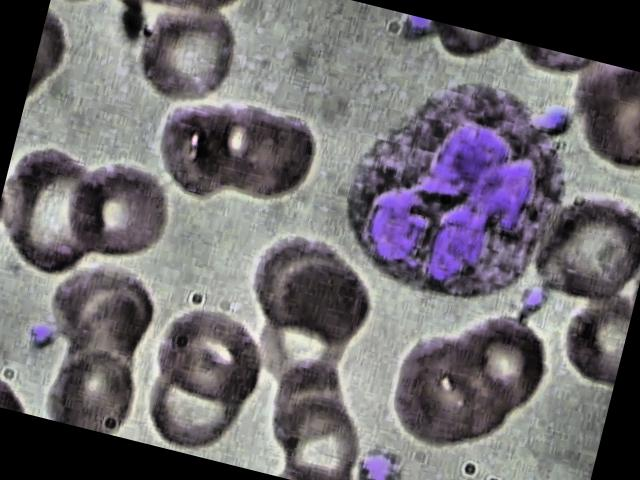Platelets: (530, 98, 582, 144), (511, 280, 558, 326), (351, 443, 404, 480), (23, 318, 64, 357), (394, 14, 437, 47)
RBC: (0, 136, 127, 287), (146, 289, 280, 413), (442, 304, 562, 422), (61, 150, 180, 268), (132, 352, 252, 465), (212, 102, 332, 214), (126, 0, 246, 110), (257, 246, 378, 354), (534, 186, 640, 304), (568, 61, 640, 178)
WBC: (305, 49, 588, 320)
